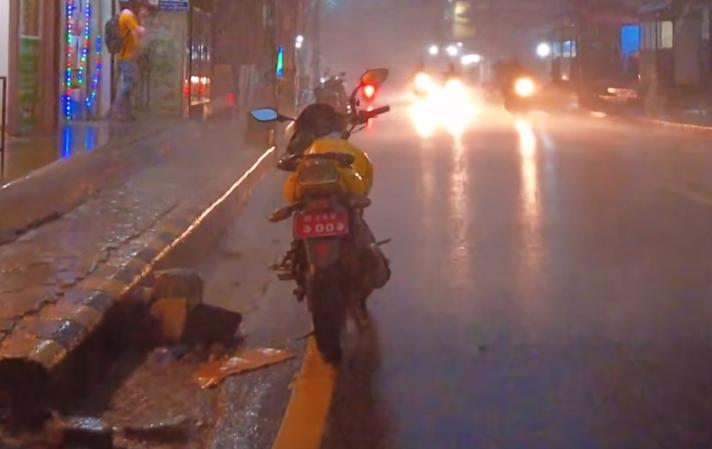bike: (251, 64, 393, 376)
